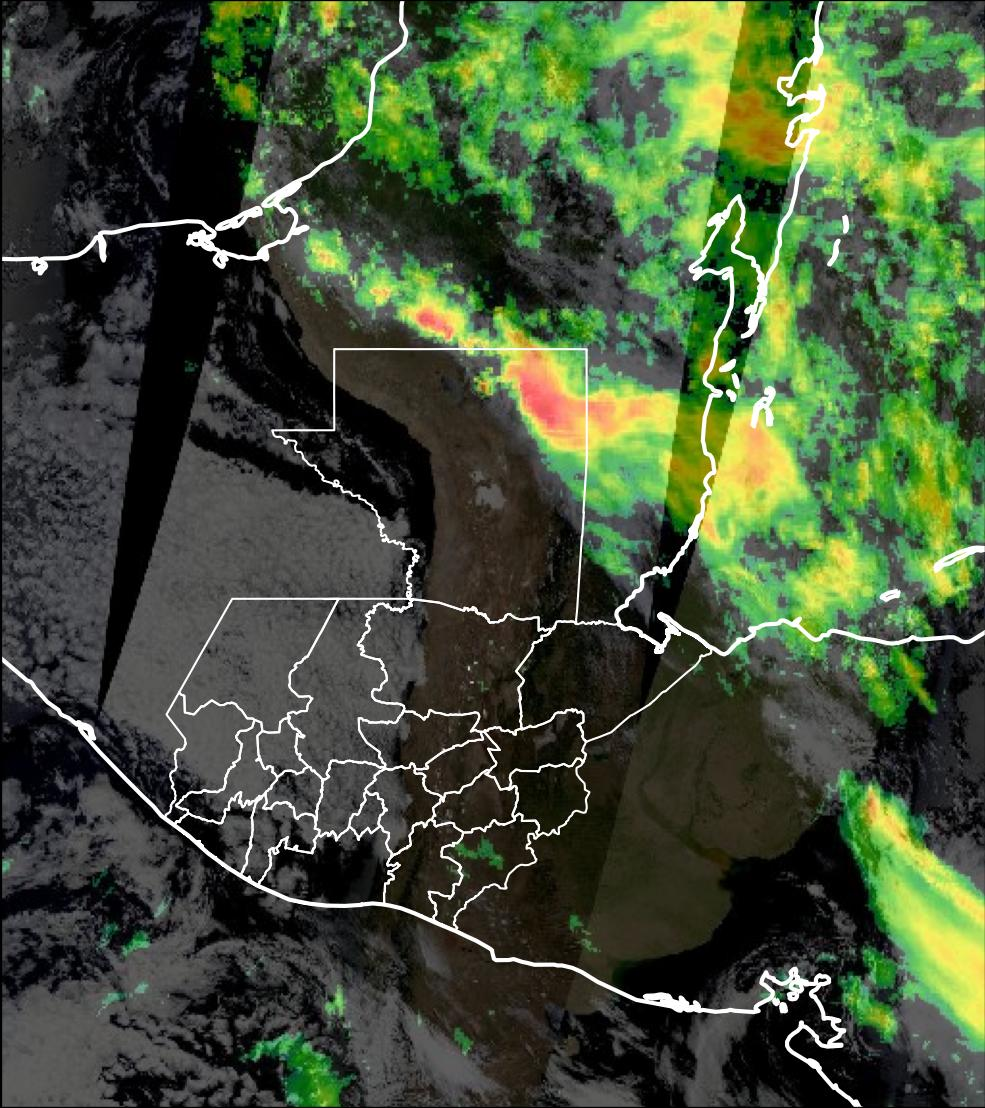precipitacion: (490, 351, 584, 460), (704, 87, 781, 170), (406, 302, 466, 342)
